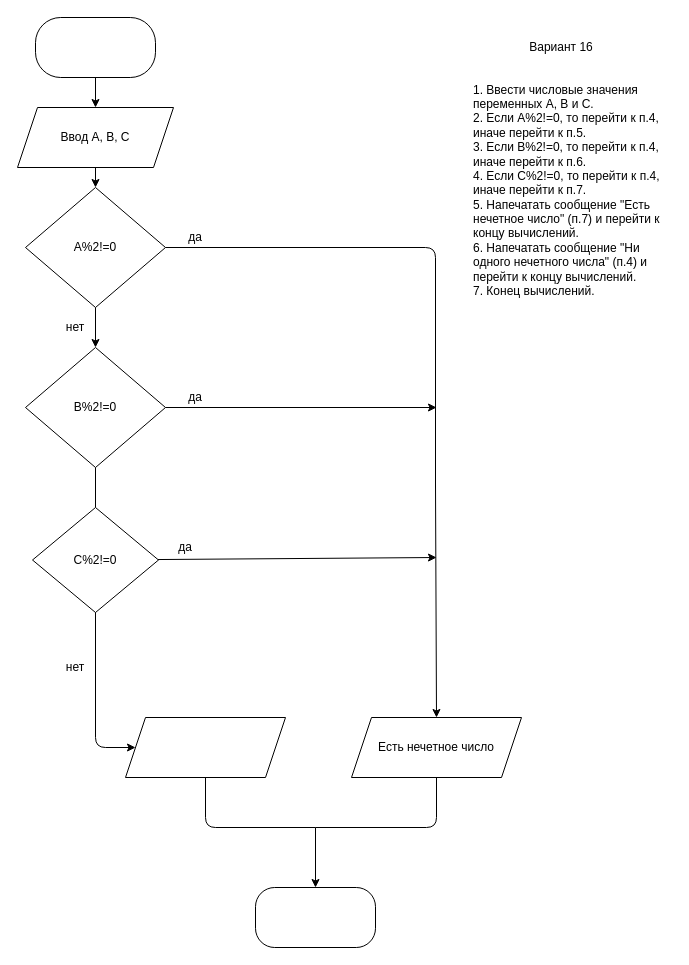
This 689x965 diagram has some shape labels left out. Here are the shapes that lost their labels. From the top down, the centre of each, then its label:
At point (95, 47): "Начало".
At point (205, 747): "Ни одного нечетного числа".
At point (315, 917): "Конец".
